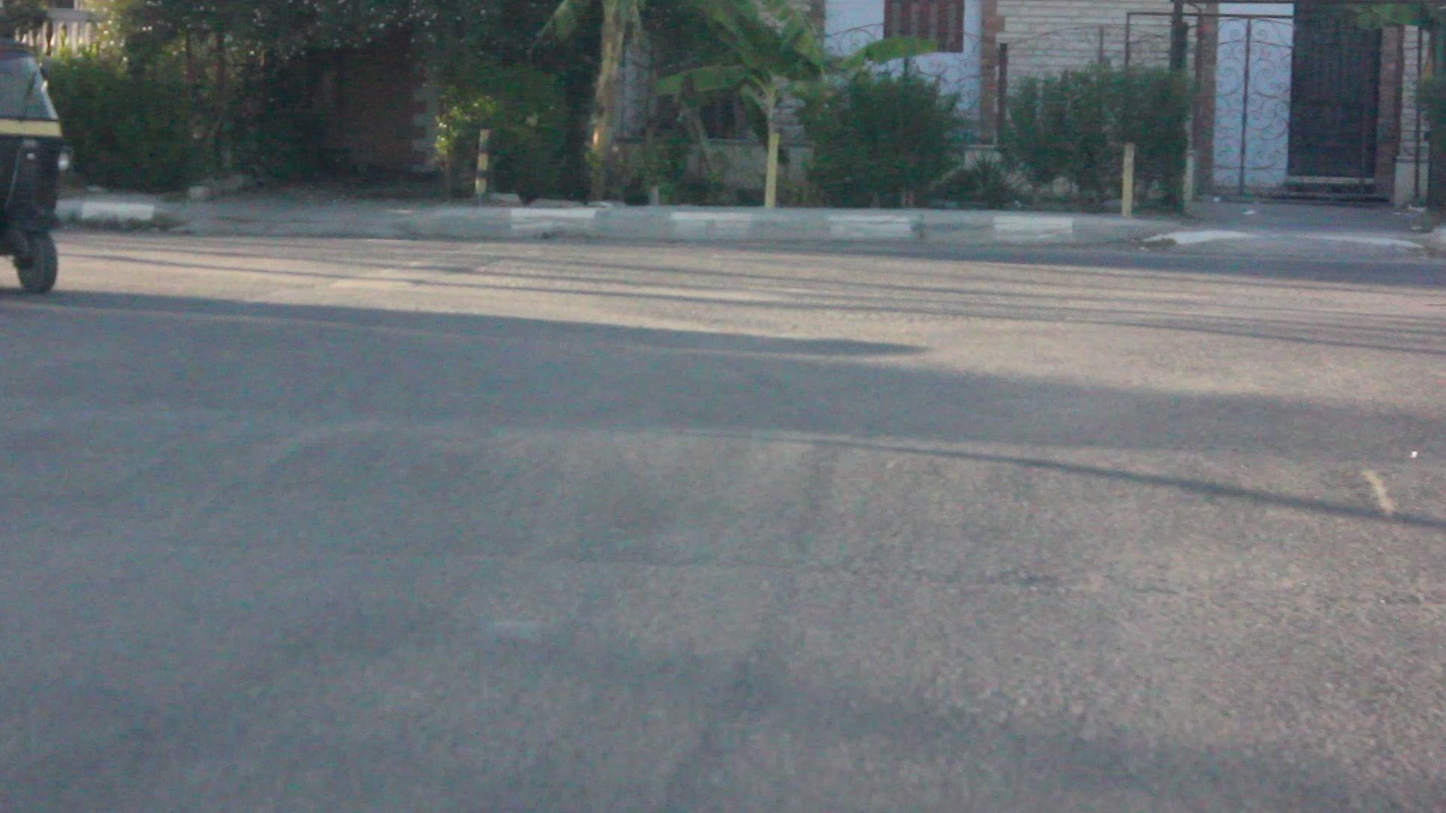Bump: (0, 384, 1446, 647)
